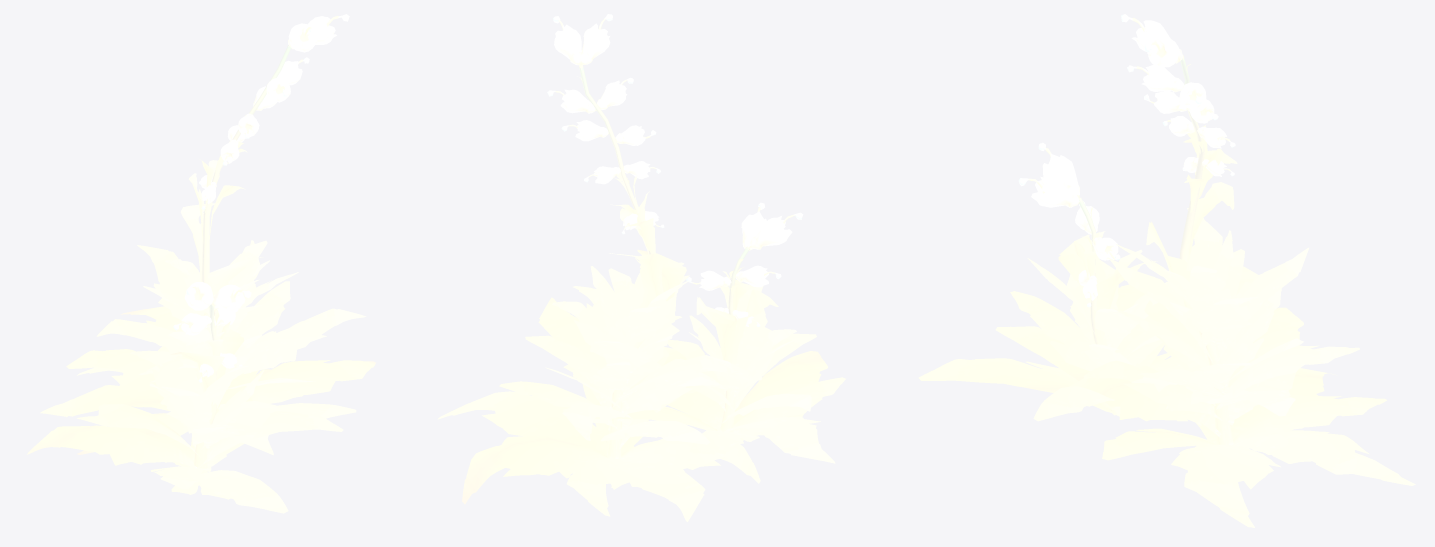
3 views of the same model, side by side, from view 1: azimuth 30°, elevation 25°; view 2: azimuth 150°, elevation 25°; view 3: azimuth 270°, elevation 25° (orthographic). The views are drawn at different scales.
Parts seen in each view (by area): view 1: SM_DR_Fox_Glove_02_LOD0; view 2: SM_DR_Fox_Glove_02_LOD0; view 3: SM_DR_Fox_Glove_02_LOD0.
Part boxes in pixels (x1,y1,x2,y2): SM_DR_Fox_Glove_02_LOD0: (27,14,375,513); SM_DR_Fox_Glove_02_LOD0: (437,14,845,521); SM_DR_Fox_Glove_02_LOD0: (918,14,1415,527).
Bounding box in the file's own units: 0.6916 × 0.7031 × 0.7119.
Materials: 1 (1 with a texture image).
